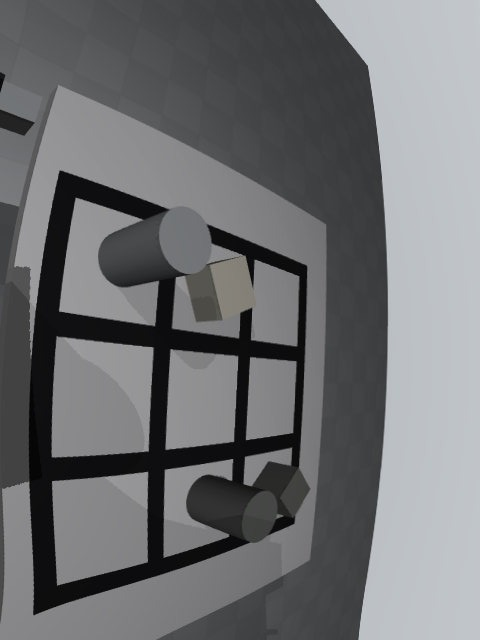can: (98, 206, 211, 288)
cube: (251, 461, 310, 518)
cylinder: (186, 474, 278, 543)
foam: (185, 255, 257, 321)
